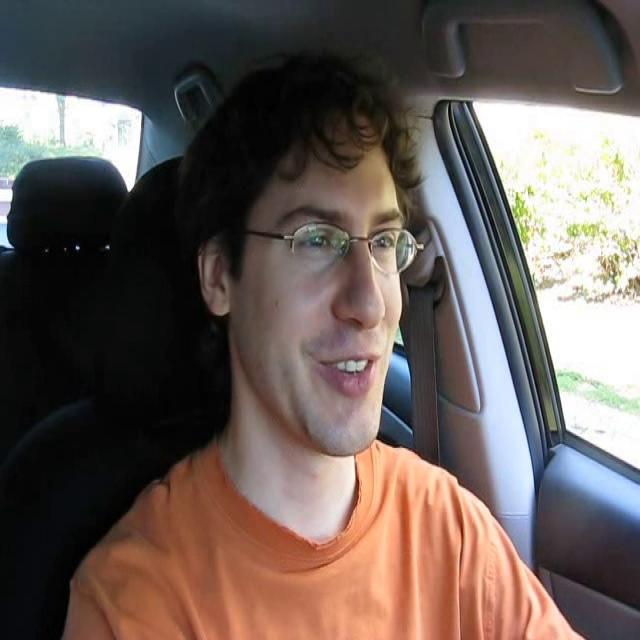close: (304, 344, 384, 401)
